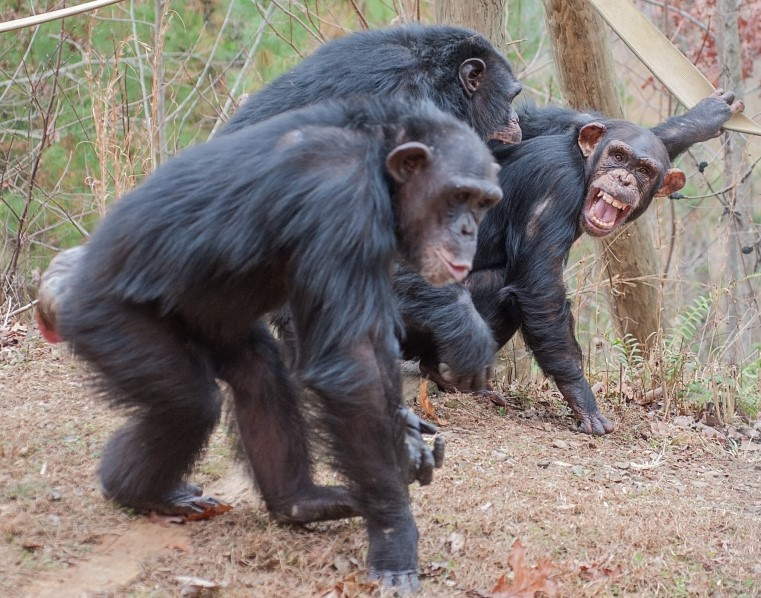Chimpanzee: (38, 130, 493, 521), (483, 91, 734, 435), (229, 25, 527, 150)
